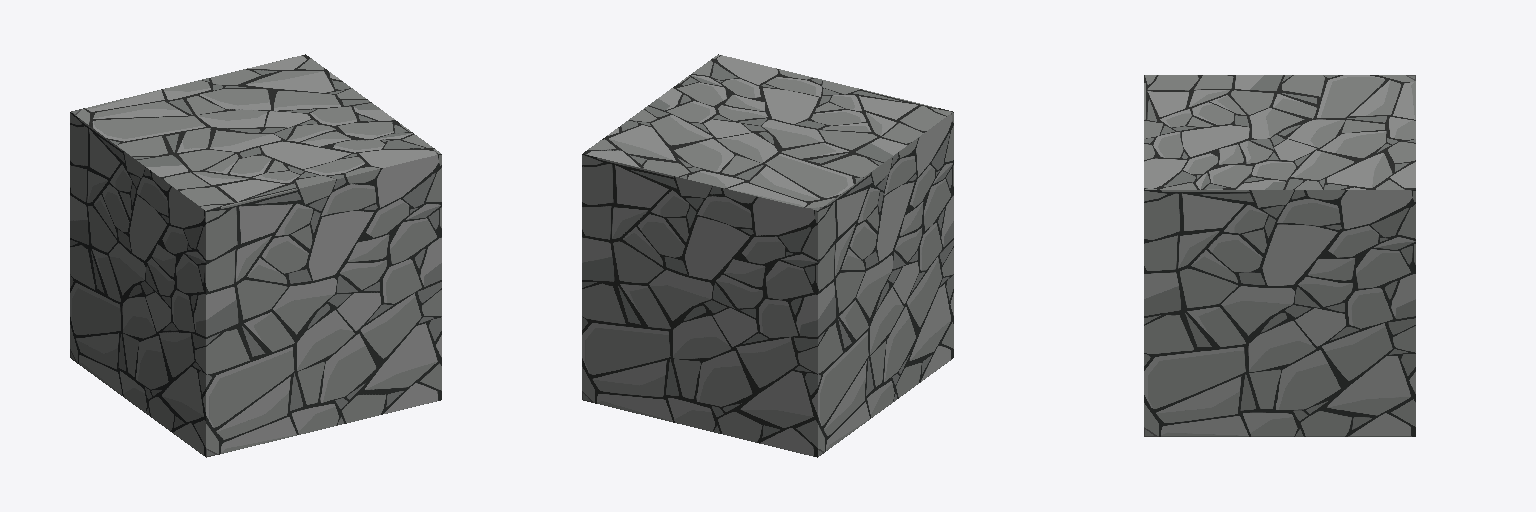
The picture shows the model from 3 angles: view 1: azimuth 30°, elevation 25°; view 2: azimuth 150°, elevation 25°; view 3: azimuth 270°, elevation 25°; orthographic projection.
Parts seen in each view (by area): view 1: Box001; view 2: Box001; view 3: Box001.
Part boxes in pixels (x1,y1,x2,y2): Box001: (70, 54, 441, 457); Box001: (582, 54, 953, 457); Box001: (1144, 75, 1415, 436).
Size of the model in its own units: 1 by 1 by 1.
Materials: 1 (1 with a texture image).